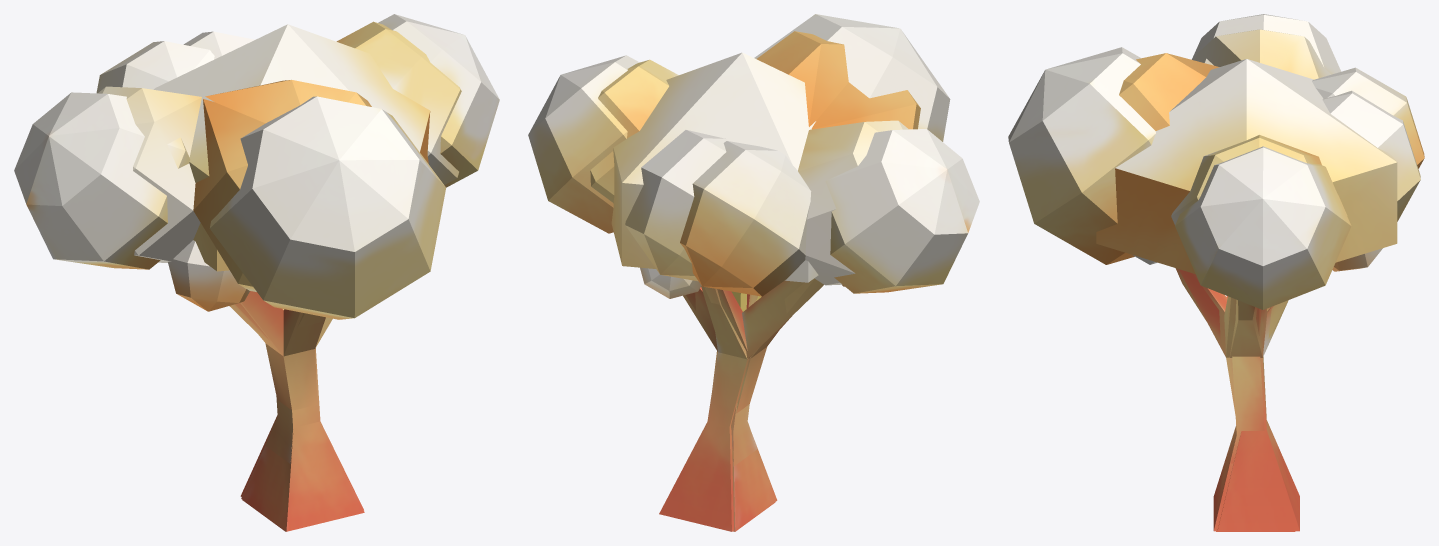
The model's file is E_tree01.fbx.
3 renders of one model, left to right at view 1: azimuth 30°, elevation 25°; view 2: azimuth 150°, elevation 25°; view 3: azimuth 270°, elevation 25°, orthographic. The views are drawn at different scales.
Visible parts, largest first — view 1: hp_e_treeleaves01, mp_e_treeleaves01, mp_e_treebase01, lp_e_treeleaves01, lp_e_treebase01, hp_treebase01; view 2: hp_e_treeleaves01, mp_e_treeleaves01, lp_e_treeleaves01, hp_treebase01, mp_e_treebase01, lp_e_treebase01; view 3: hp_e_treeleaves01, lp_e_treeleaves01, mp_e_treeleaves01, hp_treebase01, mp_e_treebase01, lp_e_treebase01.
Boxes of the visible parts, box(x1,y1,x2,y2) form: hp_e_treeleaves01: box(14, 14, 499, 319); mp_e_treeleaves01: box(98, 21, 461, 291); mp_e_treebase01: box(240, 291, 364, 531); lp_e_treeleaves01: box(153, 24, 430, 271); lp_e_treebase01: box(242, 348, 324, 531); hp_treebase01: box(229, 303, 363, 509); hp_e_treeleaves01: box(528, 14, 979, 298); mp_e_treeleaves01: box(590, 31, 920, 285); lp_e_treeleaves01: box(611, 52, 818, 282); hp_treebase01: box(659, 279, 823, 531); mp_e_treebase01: box(686, 278, 814, 531); lp_e_treebase01: box(712, 294, 775, 531); hp_e_treeleaves01: box(1008, 14, 1424, 309); lp_e_treeleaves01: box(1096, 59, 1397, 273); mp_e_treeleaves01: box(1119, 29, 1420, 264); hp_treebase01: box(1175, 268, 1299, 531); mp_e_treebase01: box(1179, 269, 1288, 531); lp_e_treebase01: box(1216, 356, 1295, 531).
Bounding box in the file's own units: 725 × 738 × 623.
